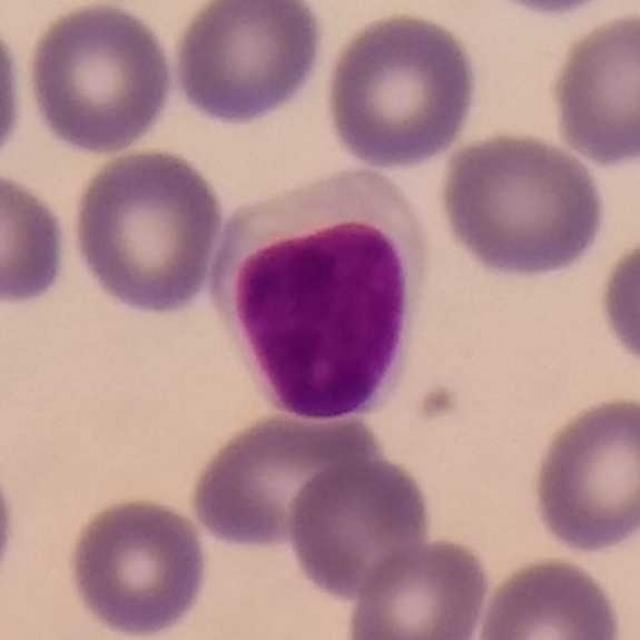Lymphocyte: (212, 160, 438, 424)
RBC: (185, 405, 386, 556), (68, 143, 227, 320), (434, 127, 610, 283), (319, 6, 482, 172), (21, 0, 178, 158), (283, 454, 435, 607), (62, 492, 213, 640), (168, 0, 328, 129), (526, 390, 640, 556), (342, 534, 492, 640), (545, 9, 640, 168), (473, 553, 627, 640), (0, 162, 75, 314), (594, 227, 640, 381), (0, 6, 28, 179), (0, 441, 20, 610), (471, 0, 628, 20)
